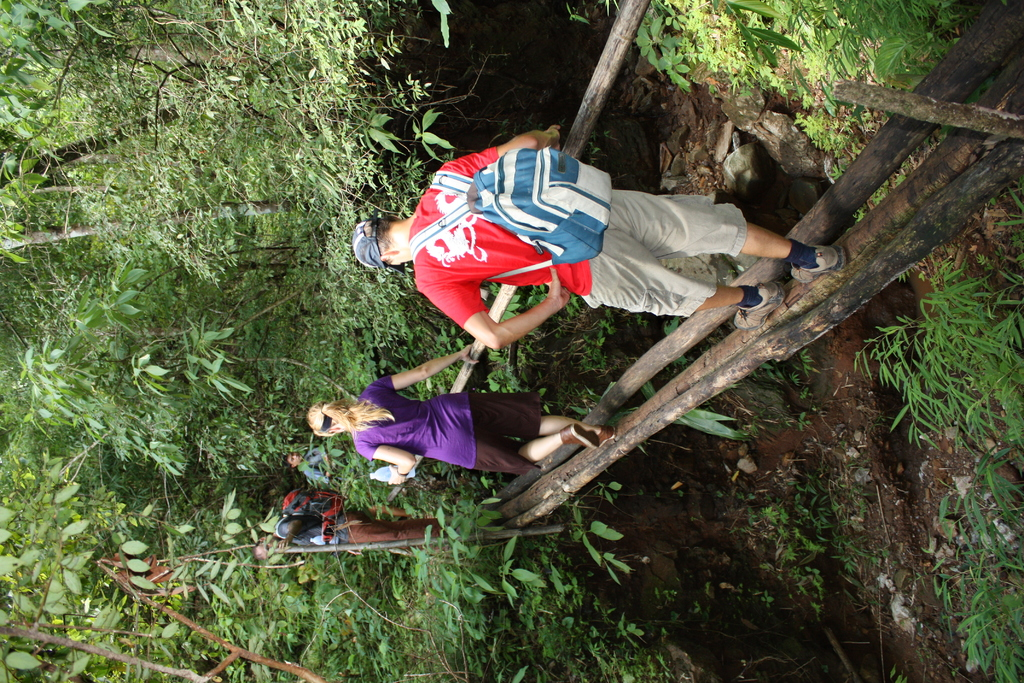Person: (351, 124, 849, 351), (305, 343, 617, 486), (251, 490, 474, 558), (281, 445, 339, 485)
